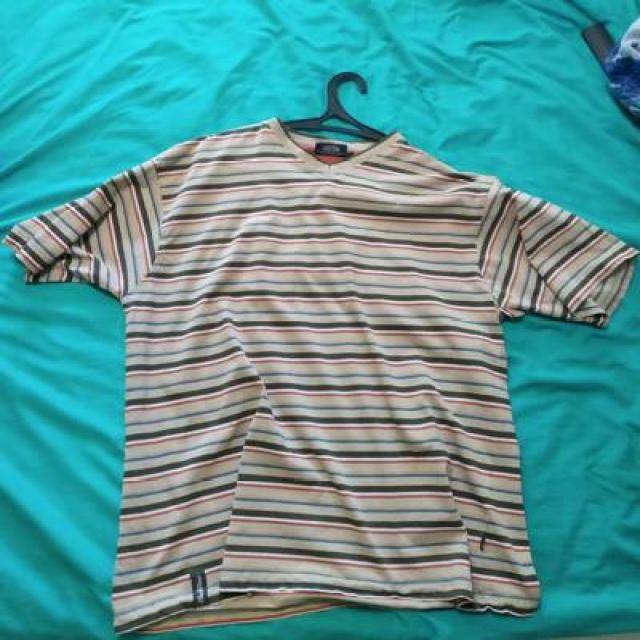Clothes -Biodegradable-: (11, 124, 633, 640)
